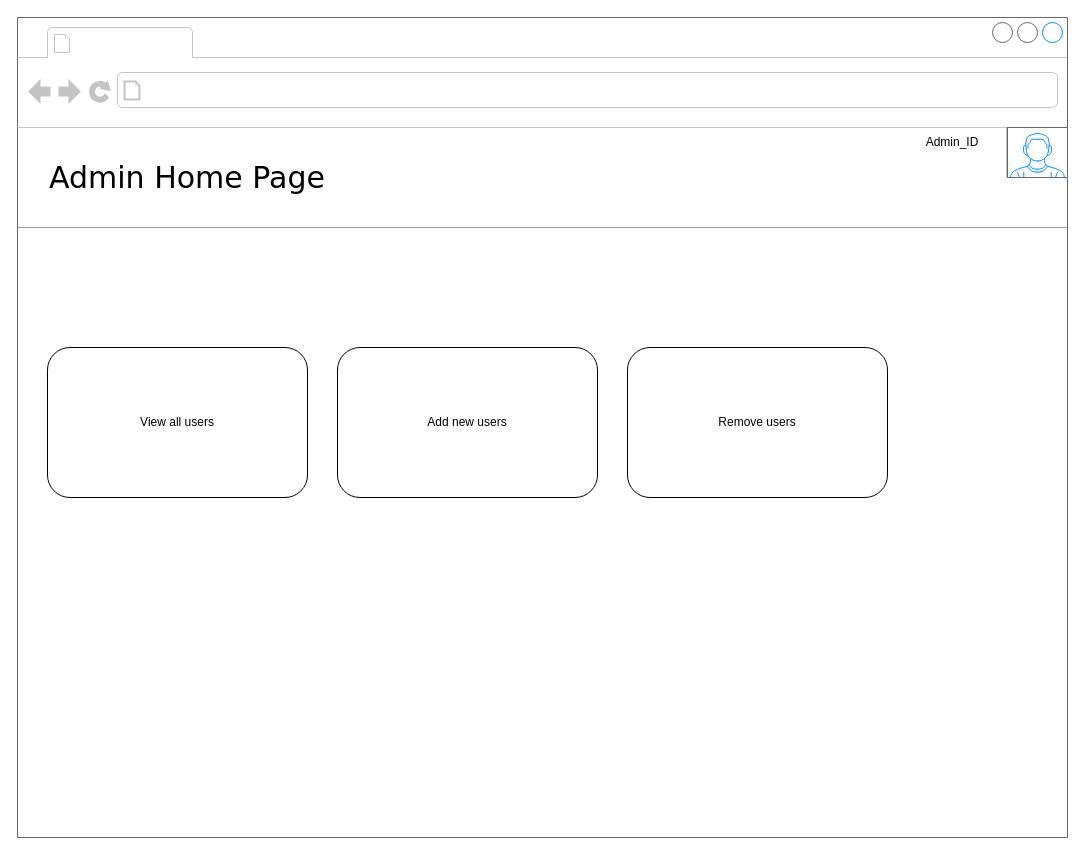
Some shapes in this 1085 by 855 pixel diagram are drawn without their labels. Each missing label, with the centre of its shape:
Home: the point at 132,42
https://www.default.com/admin: the point at 272,90
